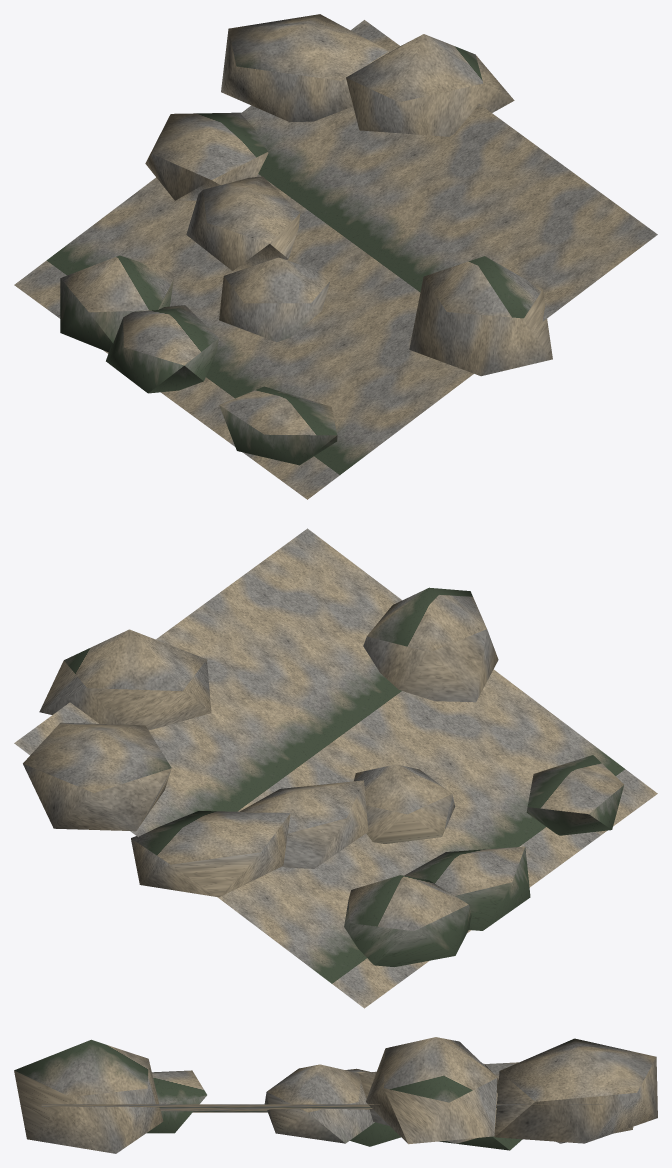
Rendered from SM_Molo_Scogliera_C_v2_LOD2.fbx.
3 views of the same model, one above another, from view 1: azimuth 30°, elevation 25°; view 2: azimuth 150°, elevation 25°; view 3: azimuth 270°, elevation 25° (orthographic). The views are drawn at different scales.
Visible parts, largest first — view 1: SM_Molo_Scogliera_C_v2_LOD2; view 2: SM_Molo_Scogliera_C_v2_LOD2; view 3: SM_Molo_Scogliera_C_v2_LOD2.
Boxes of the visible parts, left/top/right/bottom form: SM_Molo_Scogliera_C_v2_LOD2: left=14, top=14, right=657, bottom=499; SM_Molo_Scogliera_C_v2_LOD2: left=14, top=528, right=657, bottom=1008; SM_Molo_Scogliera_C_v2_LOD2: left=14, top=1037, right=657, bottom=1153.
Size of the model in its own units: 686 by 951 by 368.
Materials: 1 (1 with a texture image).
